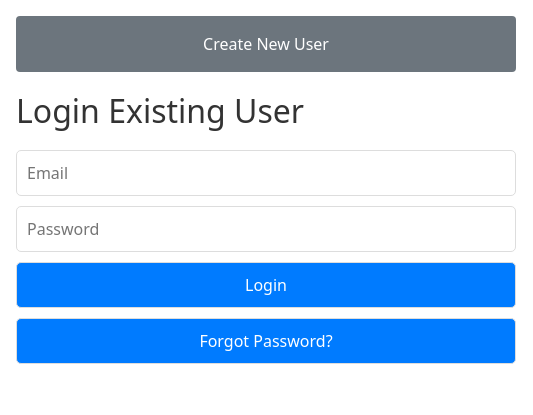
Test case: LoginPage › validates required fields
The image size is (533, 415).
Click the button with test id "login-button".
click(266, 285)  # box left=16, top=262, right=516, bottom=308
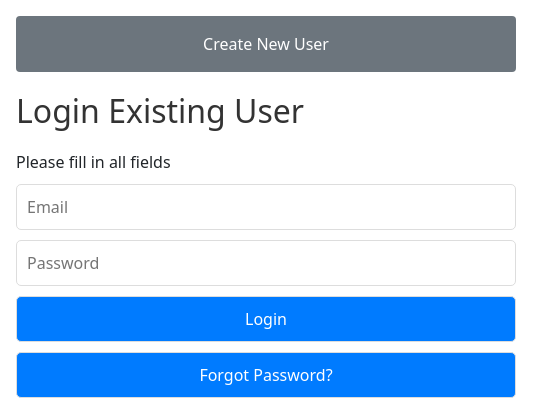
Result: the text with test id "error-message" reads "Please fill in all fields" at left=16, top=151, right=171, bottom=173
